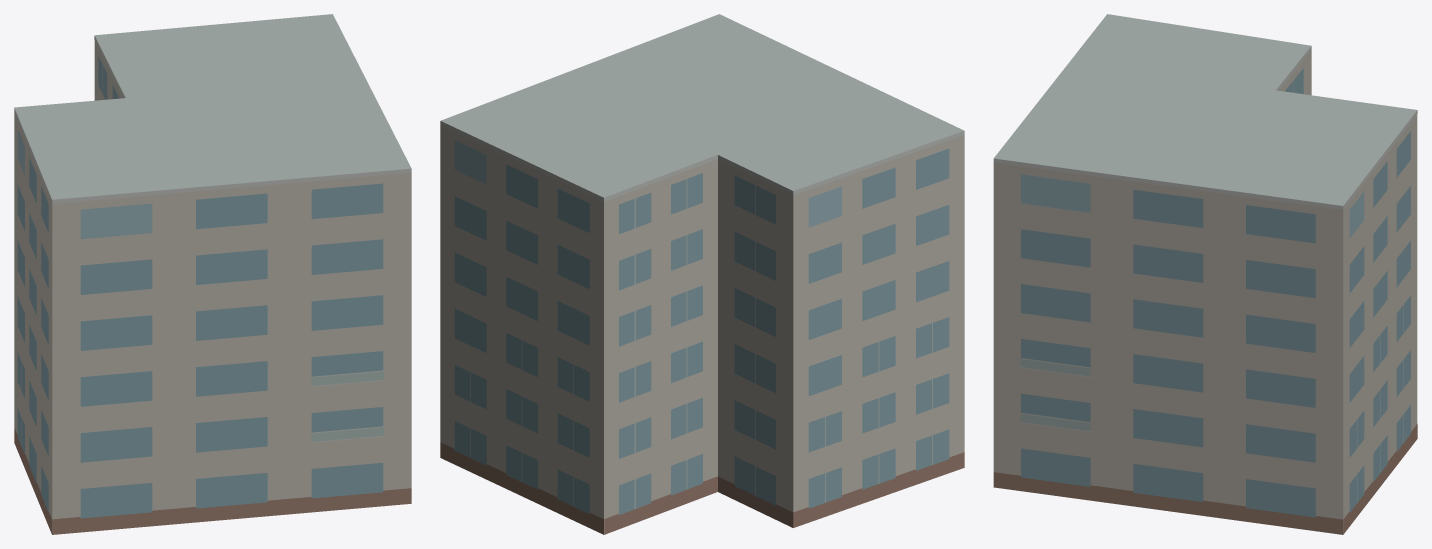
The model's file is survey-upis-32875185.glb.
3 renders of one model, left to right at view 1: azimuth 30°, elevation 25°; view 2: azimuth 150°, elevation 25°; view 3: azimuth 270°, elevation 25°, orthographic. The views are drawn at different scales.
Parts seen in each view (by area): view 1: survey-upis-32875185.tmp; view 2: survey-upis-32875185.tmp; view 3: survey-upis-32875185.tmp.
Boxes of the visible parts, left/top/right/bottom form: survey-upis-32875185.tmp: left=14, top=14, right=411, bottom=534; survey-upis-32875185.tmp: left=440, top=14, right=964, bottom=534; survey-upis-32875185.tmp: left=993, top=14, right=1417, bottom=534.
Bounding box in the file's own units: 24.36 × 19.45 × 22.73.
